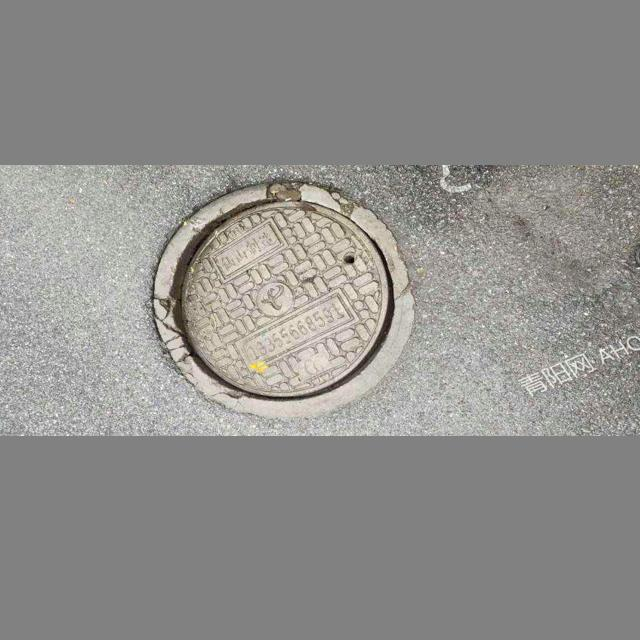circle: (105, 176, 436, 425)
